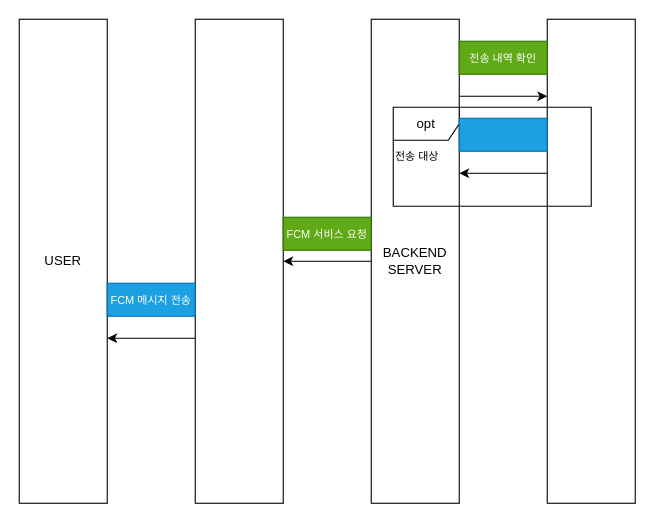
The diagram is 655 pixels wide and 523 high, and some of its shapes have lost their labels. The shapes that lost their labels are listed below. From the top down, each one's centre as x and y in pixels, then its label:
(x=502, y=134): 대상 정보 출력
(x=238, y=260): Front Web Page
(x=590, y=260): ES SERVER
